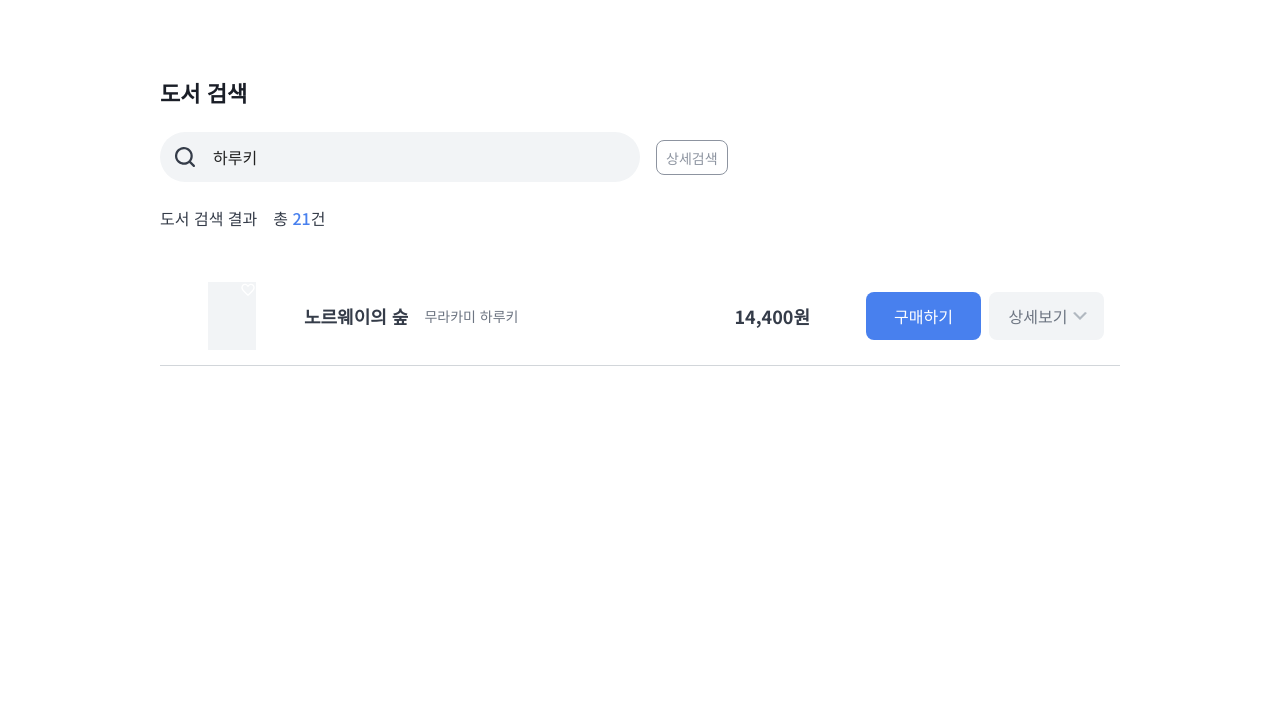
Test: SearchPage › 상세 검색은 target을 붙여 검색하고 전체 검색창을 비운다
This screenshot has width=1280, height=720.
Check: the heading "노르웨이의 숲" is shown, box [304,306,408,324]
Click the button "상세검색" at (692, 158), box [656,140,728,175]
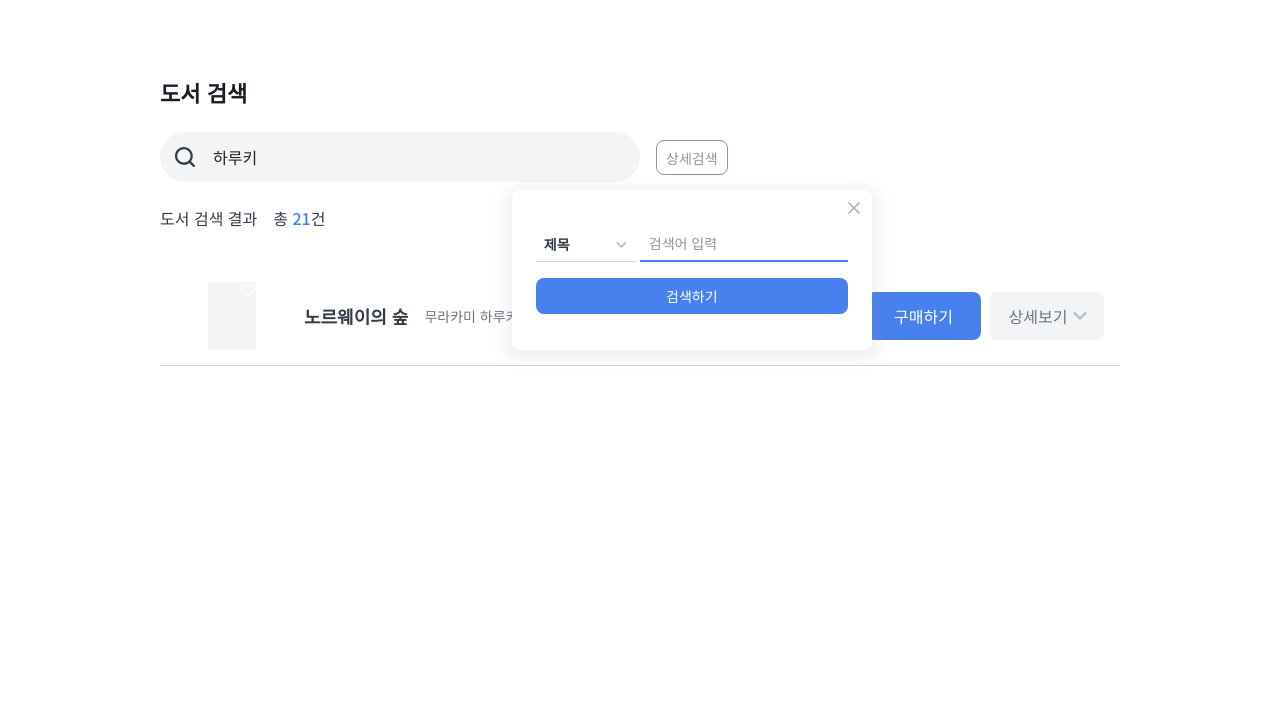
Click the button with aria-label "검색 조건: 제목" at (586, 244), box [536,226,636,262]
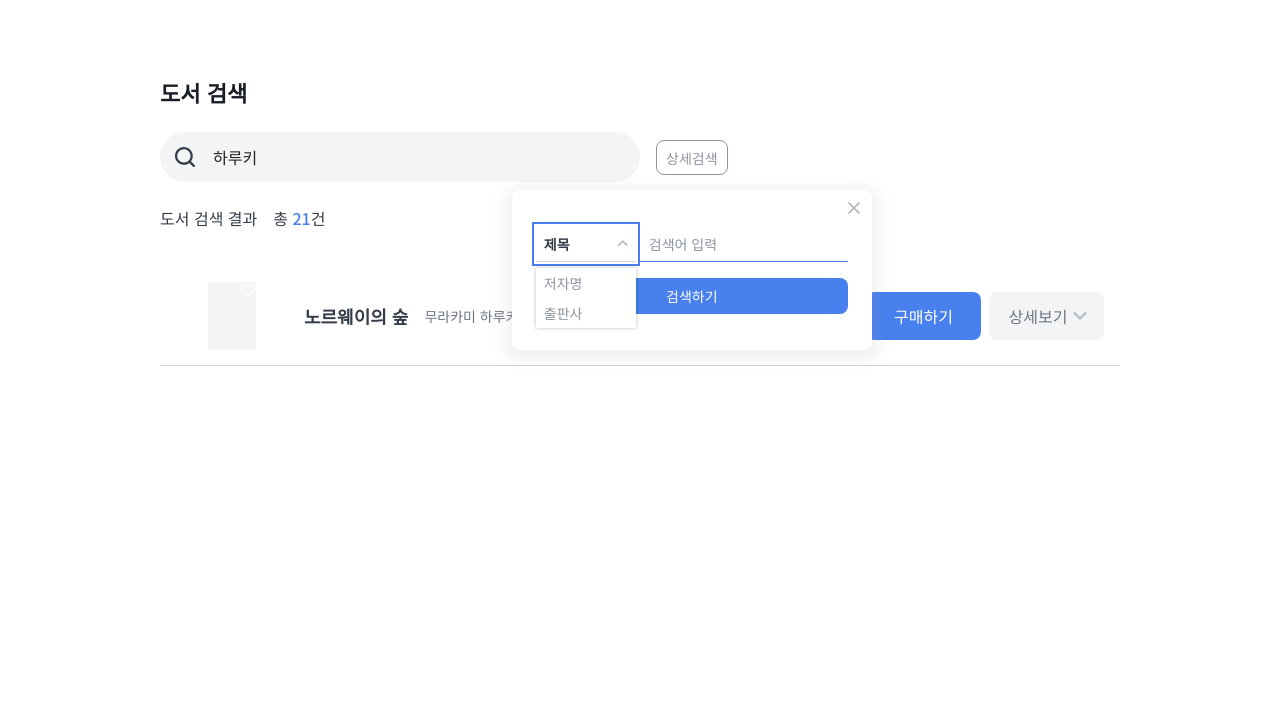
Click the button "출판사" at (586, 313), box [536,298,636,328]
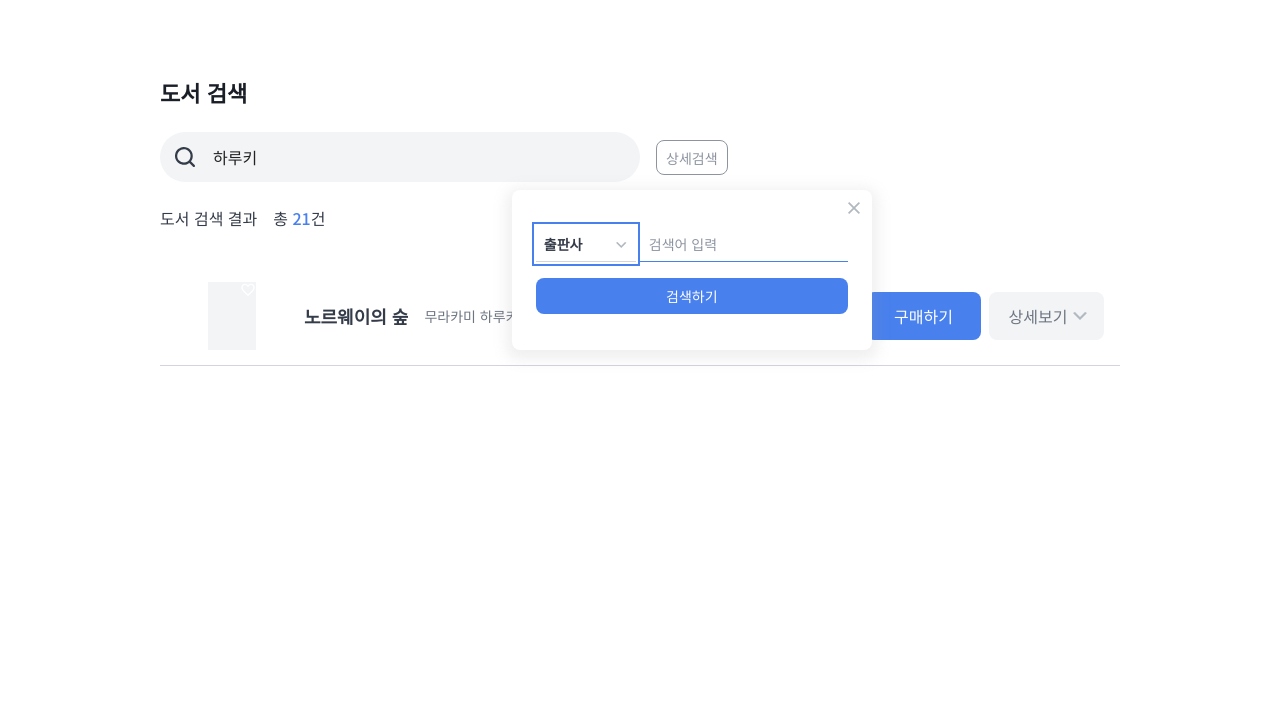
Type "민음사" into the field with placeholder "검색어 입력" at (744, 244), box [640,226,848,262]
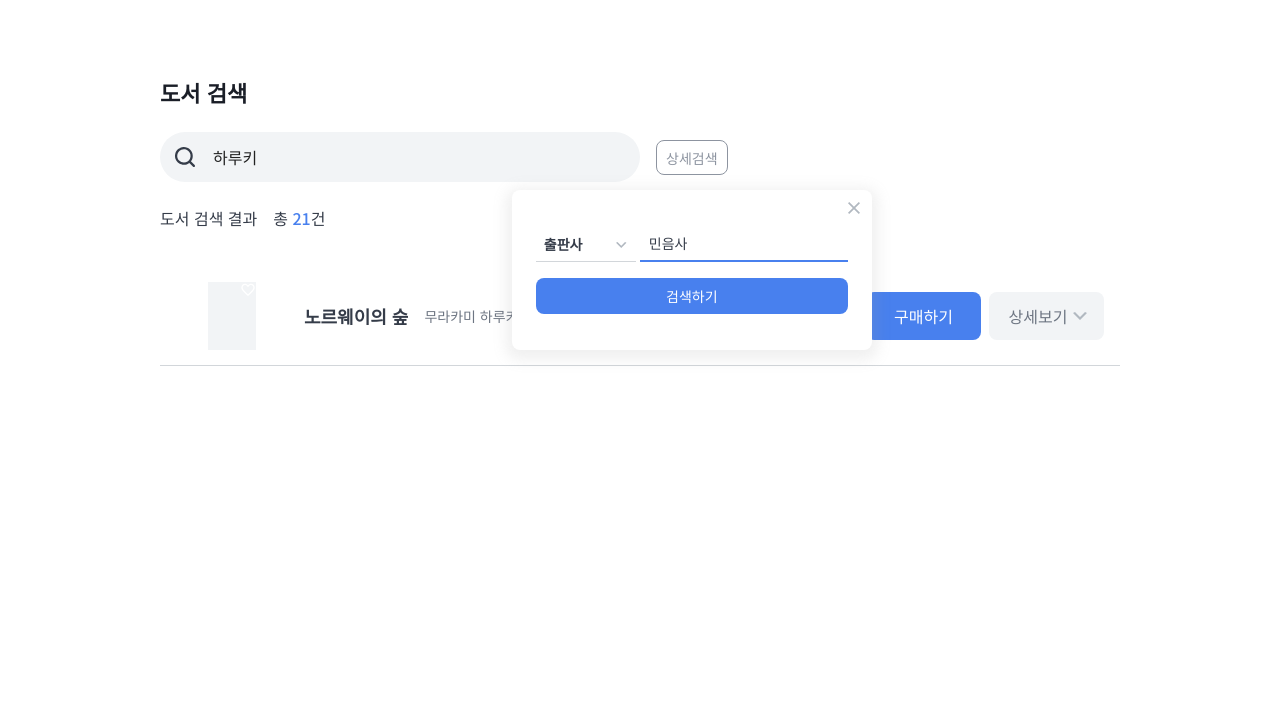
Click the button "검색하기" at (692, 296), box [536,278,848,314]
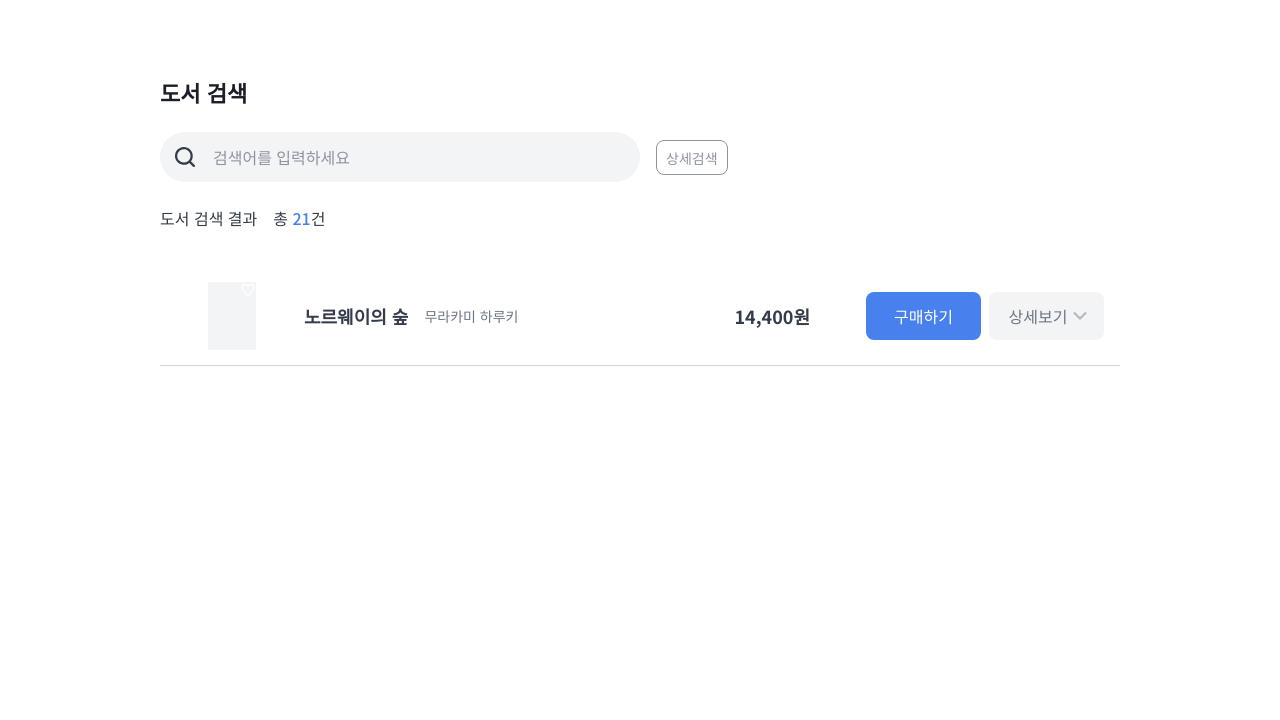
Check: the dialog is gone
Check: the search field is empty, box [211,144,630,170]
